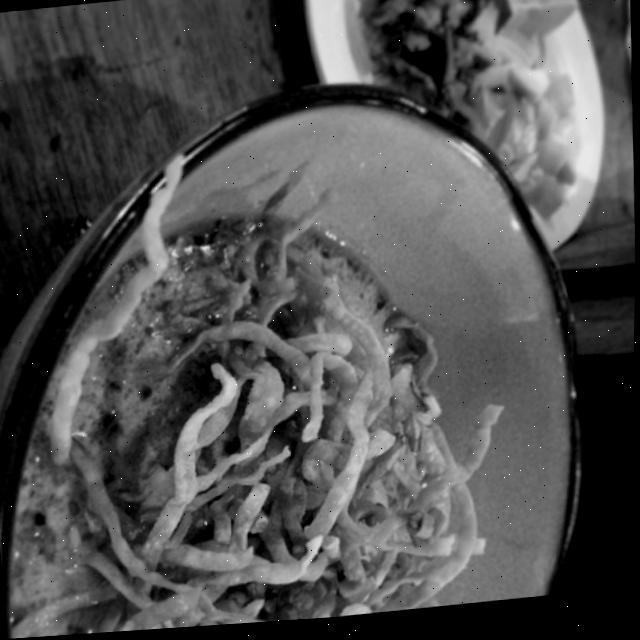面条主食: (0, 51, 599, 618)
